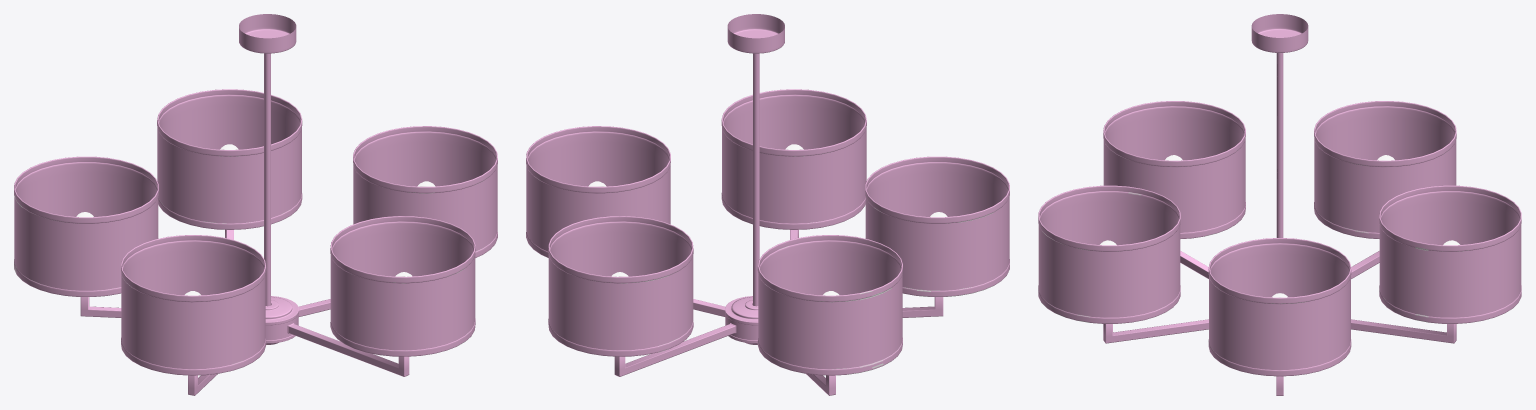
File: chandelier_1.glb
3 renders of one model, left to right at view 1: azimuth 30°, elevation 25°; view 2: azimuth 150°, elevation 25°; view 3: azimuth 270°, elevation 25°, orthographic.
Visible parts, largest first — view 1: Cylinder.004, Metal.001; view 2: Cylinder.004, Metal.001; view 3: Cylinder.004, Metal.001.
Boxes of the visible parts, left/top/right/bottom form: Cylinder.004: left=14, top=89, right=497, bottom=375; Metal.001: left=80, top=14, right=409, bottom=395; Cylinder.004: left=526, top=89, right=1009, bottom=375; Metal.001: left=614, top=14, right=943, bottom=395; Cylinder.004: left=1038, top=101, right=1521, bottom=376; Metal.001: left=1103, top=14, right=1456, bottom=395.
Bounding box in the file's own units: 0.7473 × 0.55 × 0.7734.
